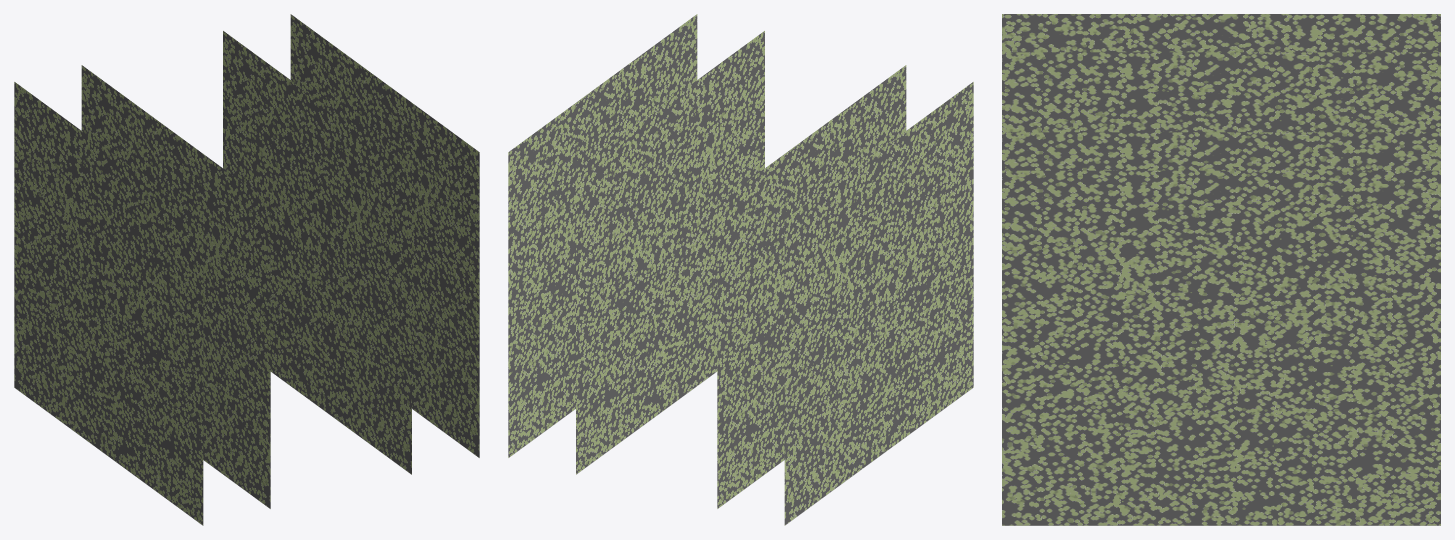
Rendered from pollen.fbx.
The picture shows the model from 3 angles, left to right: view 1: azimuth 30°, elevation 25°; view 2: azimuth 150°, elevation 25°; view 3: azimuth 270°, elevation 25°; orthographic projection. The views are drawn at different scales.
Parts seen in each view (by area): view 1: polySurface209; view 2: polySurface209; view 3: polySurface209.
Part boxes in pixels (x1,y1,x2,y2): polySurface209: [14, 14, 479, 525]; polySurface209: [508, 14, 973, 525]; polySurface209: [1002, 14, 1440, 525].
Size of the model in its own units: 32.13 by 34 by 38.04.
Materials: 1 (1 with a texture image).
